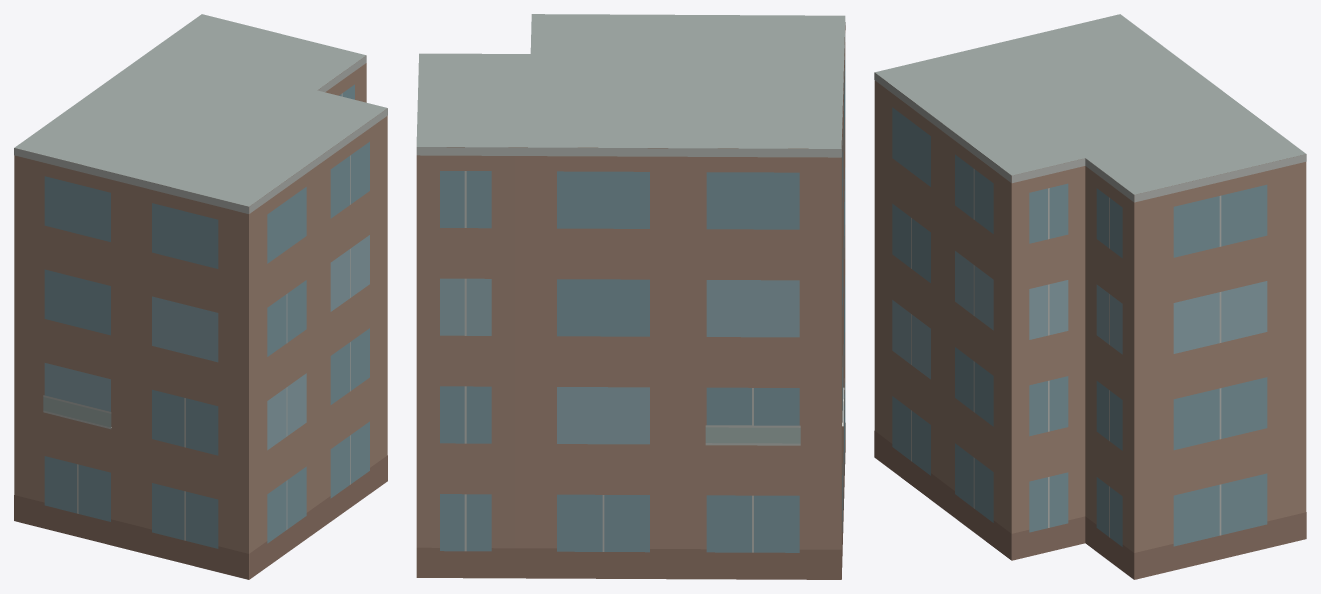
The model's file is residential-aed41631-01eb-4506-be4d-c7c588b393e6.glb.
3 renders of one model, left to right at view 1: azimuth 30°, elevation 25°; view 2: azimuth 150°, elevation 25°; view 3: azimuth 270°, elevation 25°, orthographic. The views are drawn at different scales.
Parts seen in each view (by area): view 1: residential-aed41631-01eb-4506-be4d-c7c588b393e6.tmp; view 2: residential-aed41631-01eb-4506-be4d-c7c588b393e6.tmp; view 3: residential-aed41631-01eb-4506-be4d-c7c588b393e6.tmp.
Part boxes in pixels (x1,y1,x2,y2): residential-aed41631-01eb-4506-be4d-c7c588b393e6.tmp: (14, 14, 387, 579); residential-aed41631-01eb-4506-be4d-c7c588b393e6.tmp: (416, 14, 845, 579); residential-aed41631-01eb-4506-be4d-c7c588b393e6.tmp: (874, 14, 1306, 579).
Size of the model in its own units: 12.3 by 12.2 by 12.41.
